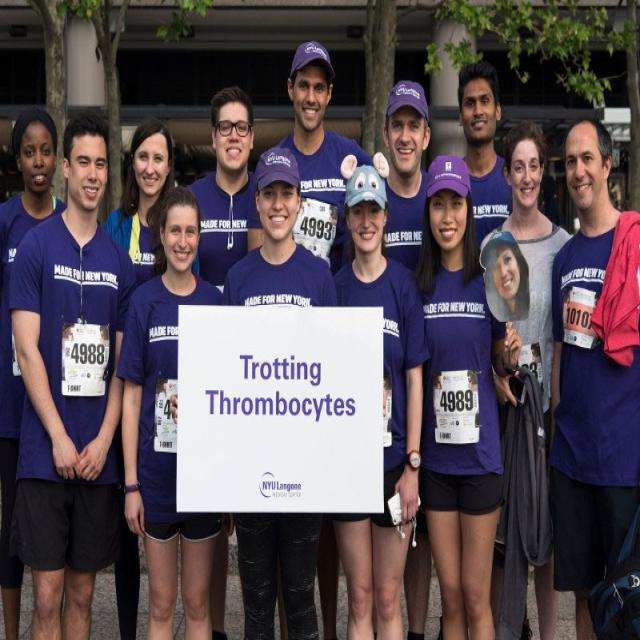body: (5, 97, 142, 639), (258, 37, 378, 640), (409, 150, 525, 640), (113, 180, 236, 639), (319, 143, 432, 639), (227, 145, 340, 635), (478, 108, 582, 639), (545, 113, 639, 640), (373, 75, 440, 640), (0, 105, 67, 640), (184, 85, 266, 294), (102, 118, 202, 288), (444, 56, 514, 263), (477, 234, 528, 312), (608, 133, 637, 210), (542, 139, 564, 225)
